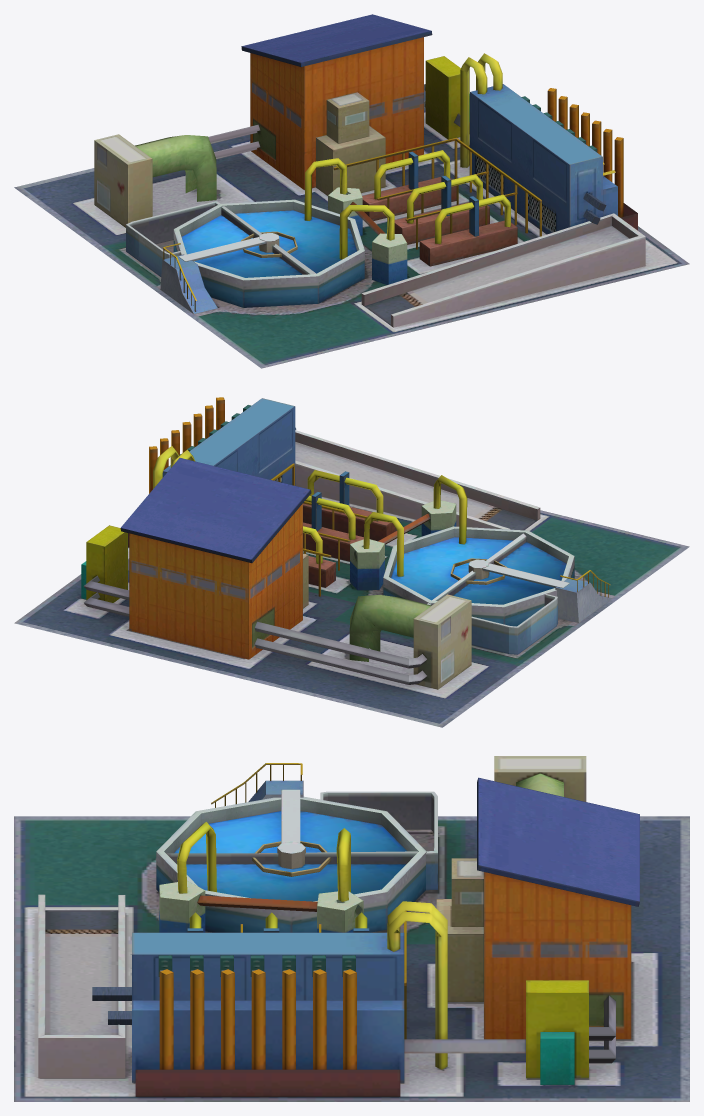
The model's file is wushuichulichang.FBX.
The picture shows the model from 3 angles, top to bottom: view 1: azimuth 30°, elevation 25°; view 2: azimuth 150°, elevation 25°; view 3: azimuth 270°, elevation 25°; orthographic projection. The views are drawn at different scales.
Visible parts, largest first — view 1: wushuichulichang; view 2: wushuichulichang; view 3: wushuichulichang.
Part boxes in pixels (x1,y1,x2,y2): wushuichulichang: (14,14,689,368); wushuichulichang: (14,397,689,727); wushuichulichang: (14,756,689,1101).
Bounding box in the file's own units: 3297 × 958 × 3297.
